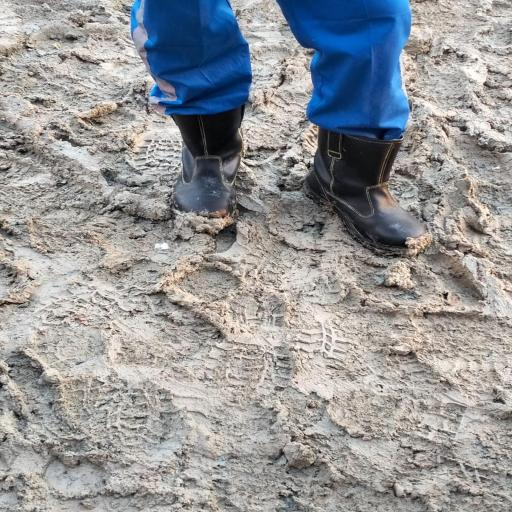safety_shoe: (308, 126, 436, 258), (156, 115, 262, 228)
